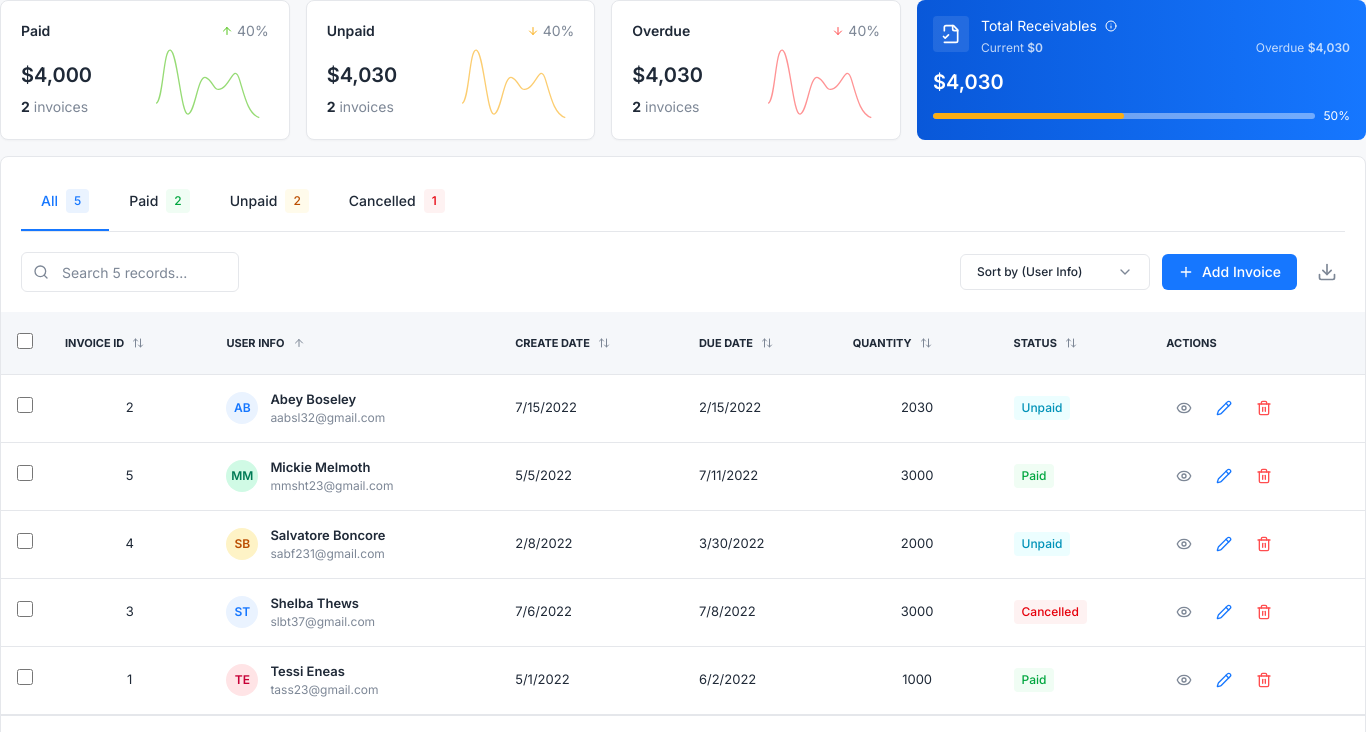
Invoice List › renders invoice columns, filters status and searches email
Click the tab "Paid 2": (159, 202) [109,173,210,231]
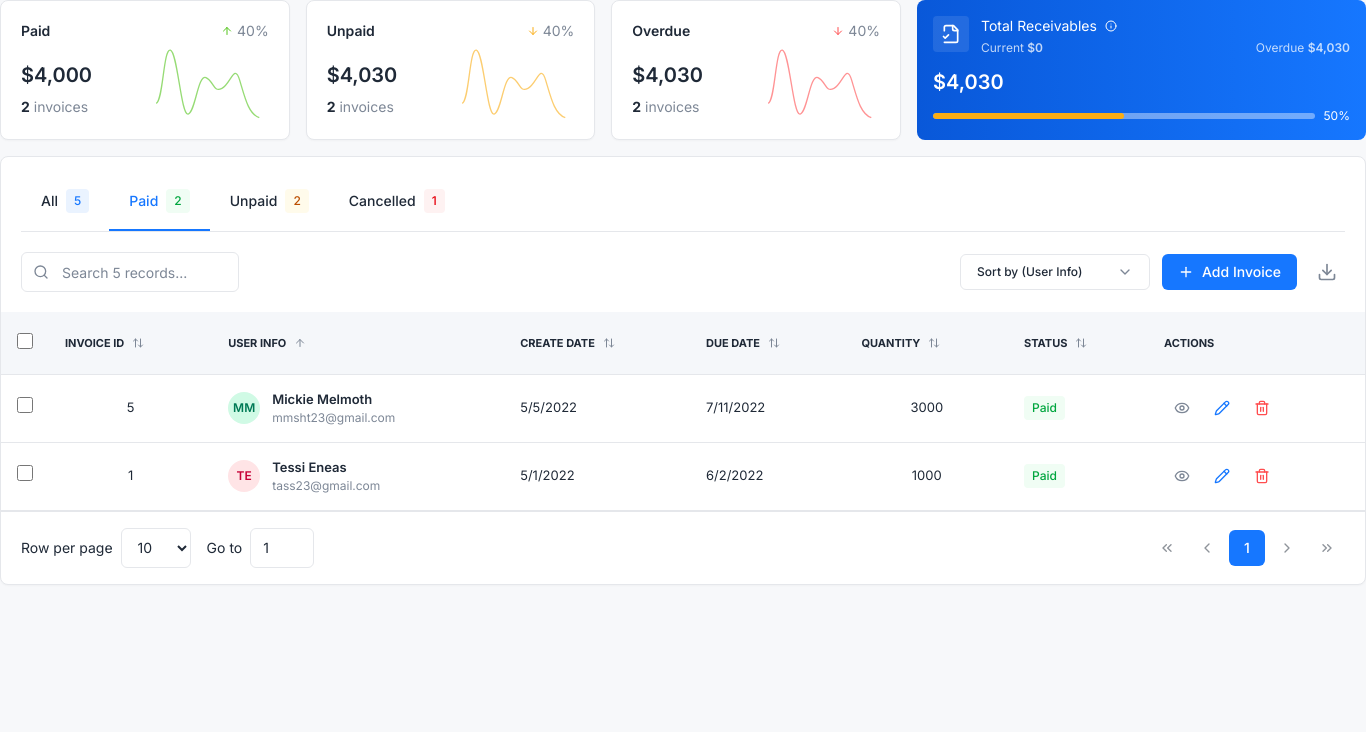
Expected: the text "Abey Boseley" is gone
Click the tab "All 5": (65, 202) [21,173,109,231]
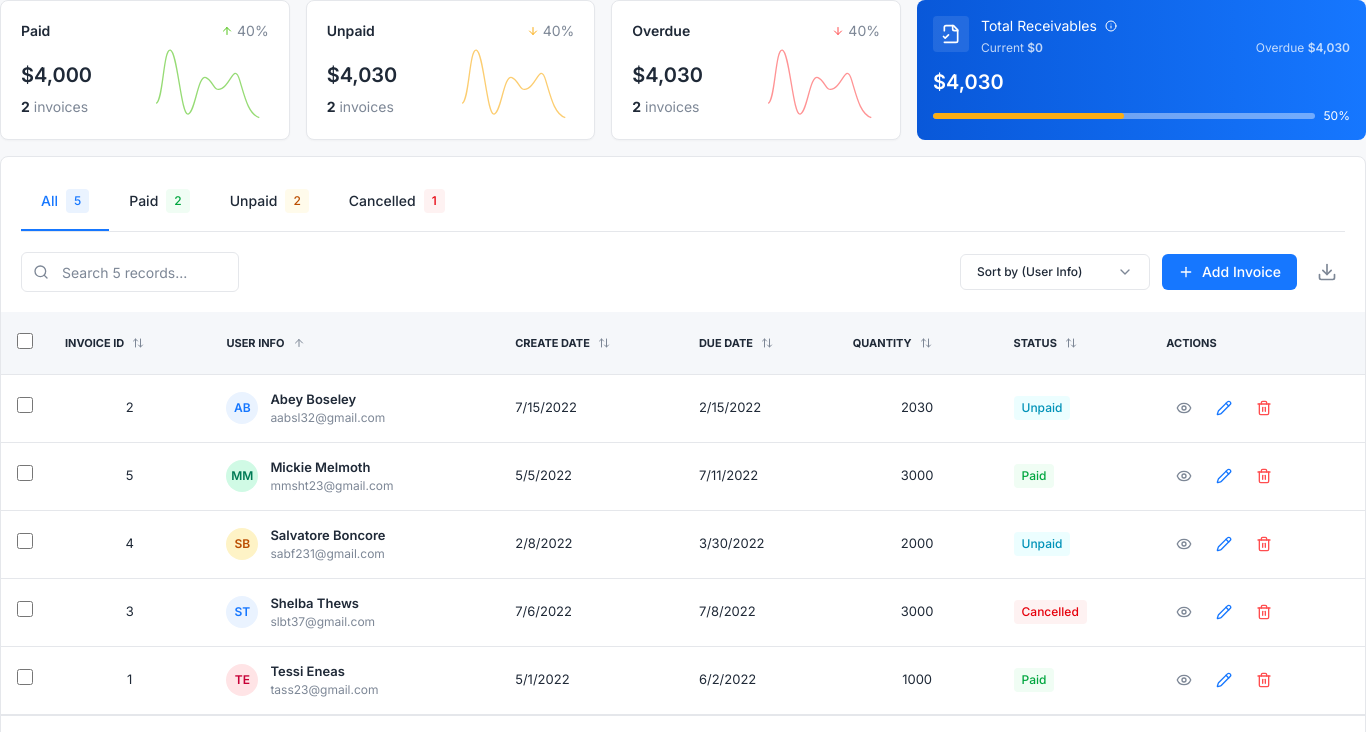
In the field named "Search invoices": (130, 272) [21,252,239,292], type "aabsl32@gmail.com"
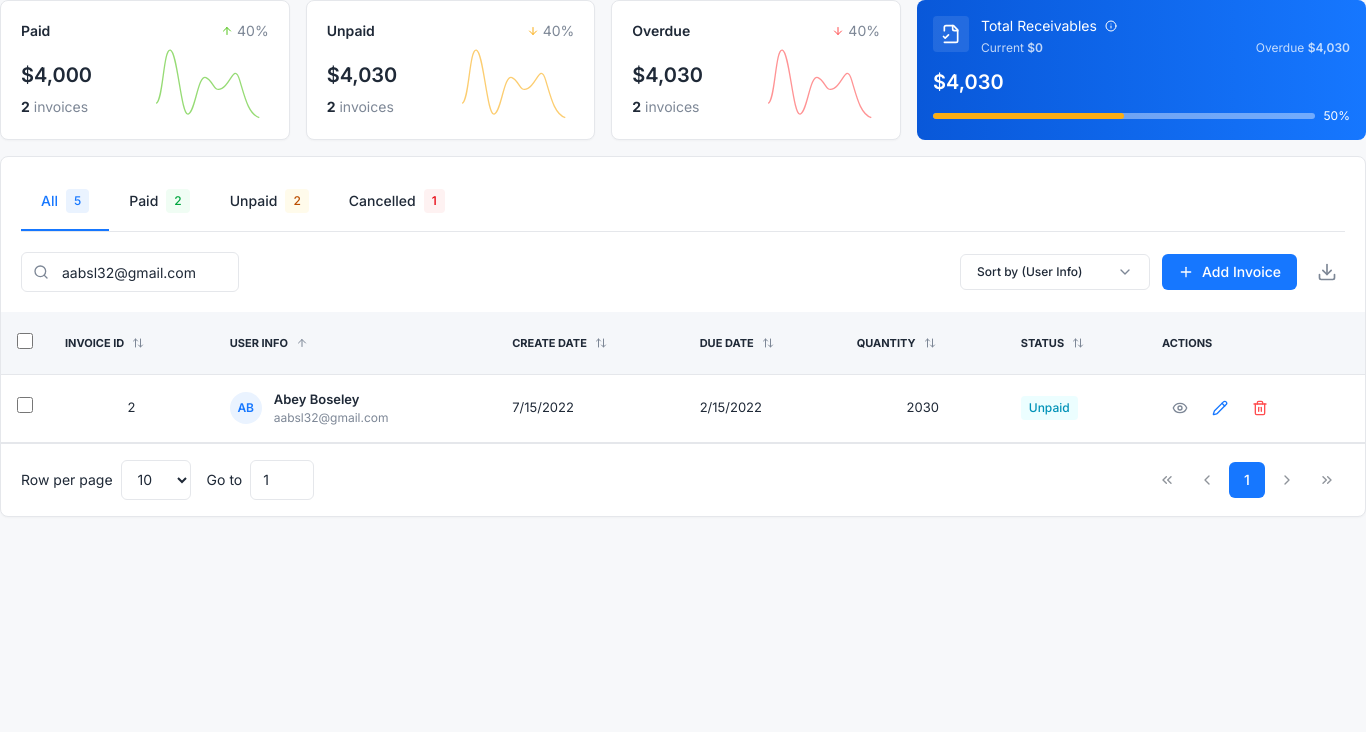
Expected: the text "Abey Boseley" is shown, [274,391,360,407]
Replace the text in the field named "Search invoices" with "7/15/2022": (130, 272) [21,252,239,292]
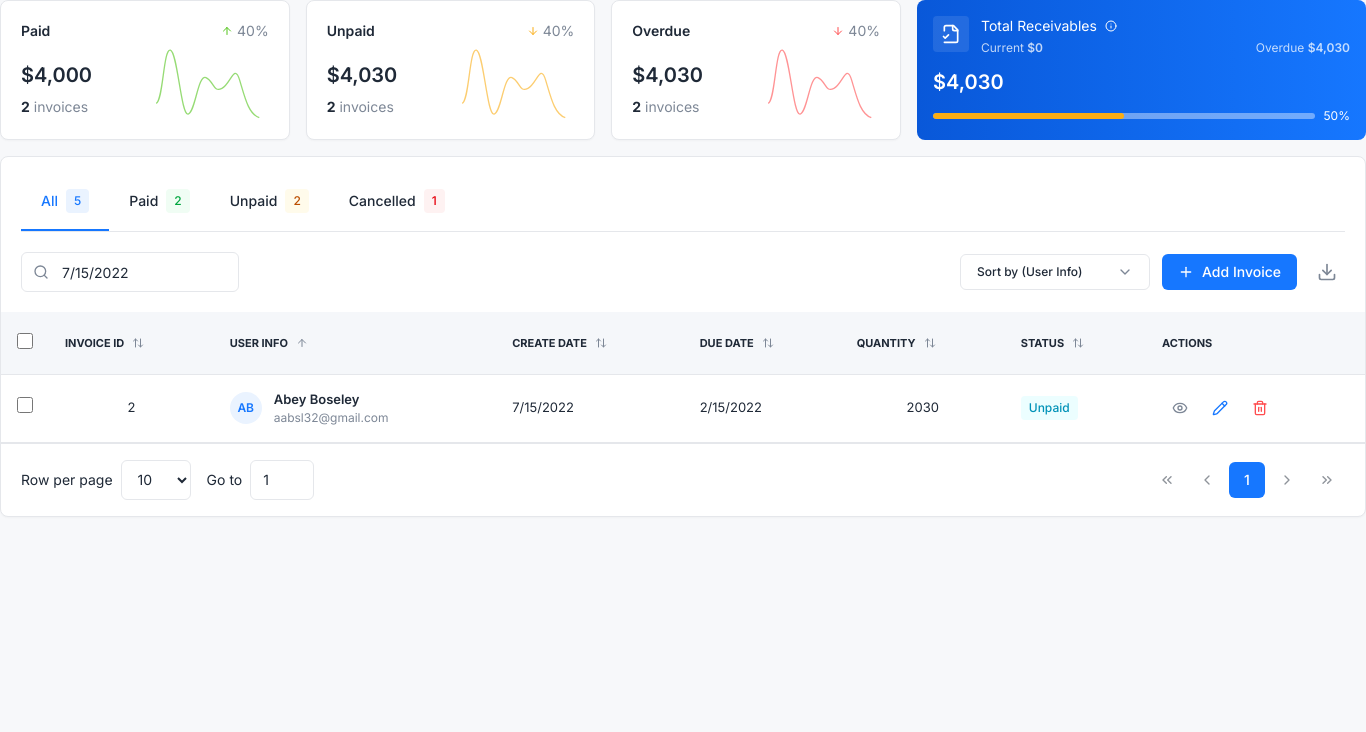
Replace the text in the field named "Search invoices" with "missing": (130, 272) [21,252,239,292]
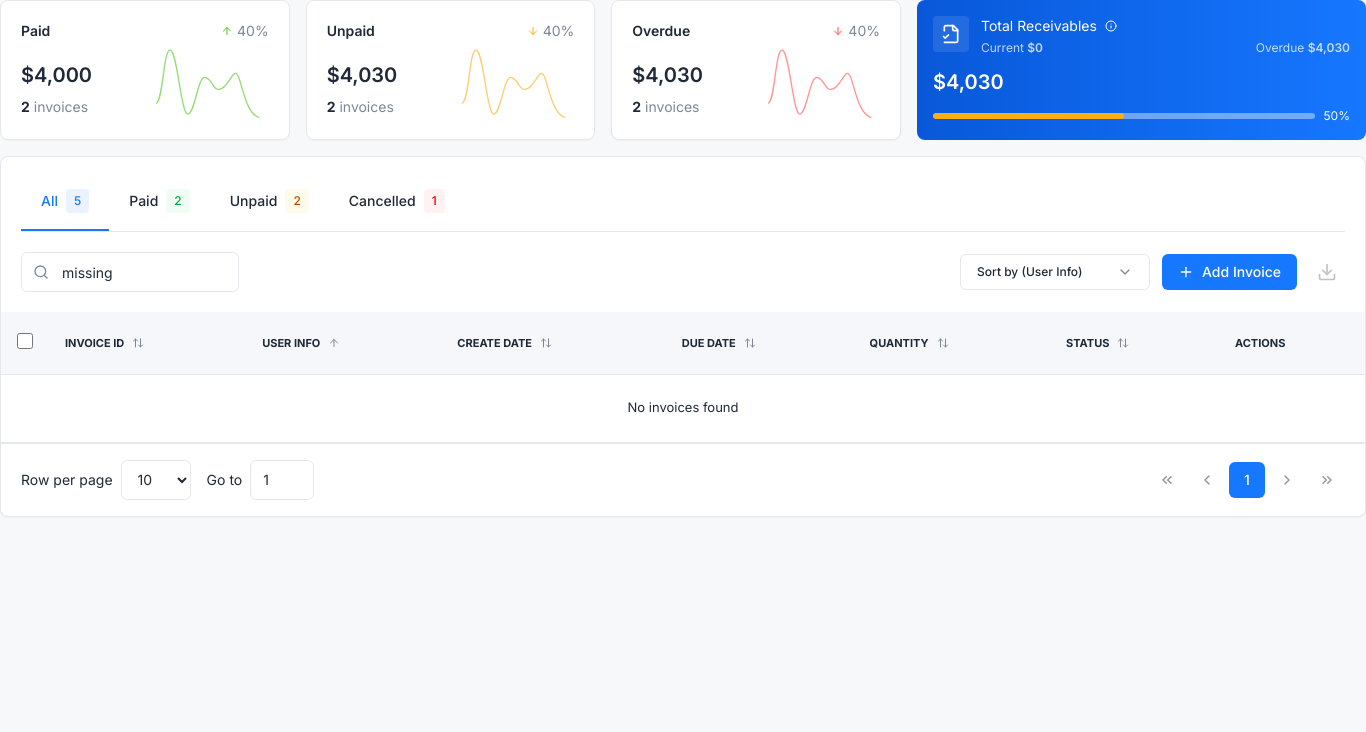
Expected: the text "No invoices found" is shown, [1,374,1365,442]
Expected: the button named "CSV Export" is disabled, [1309,254,1345,290]
